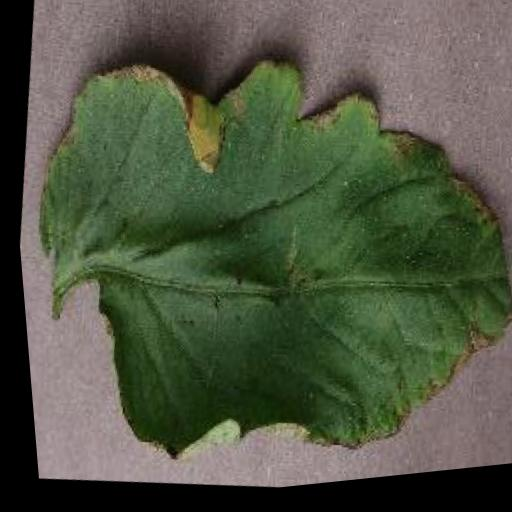Bacterial Spot: (3, 0, 512, 512)
